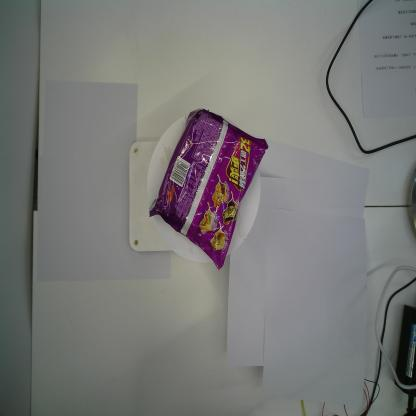Instant Noodles: (148, 107, 269, 272)
